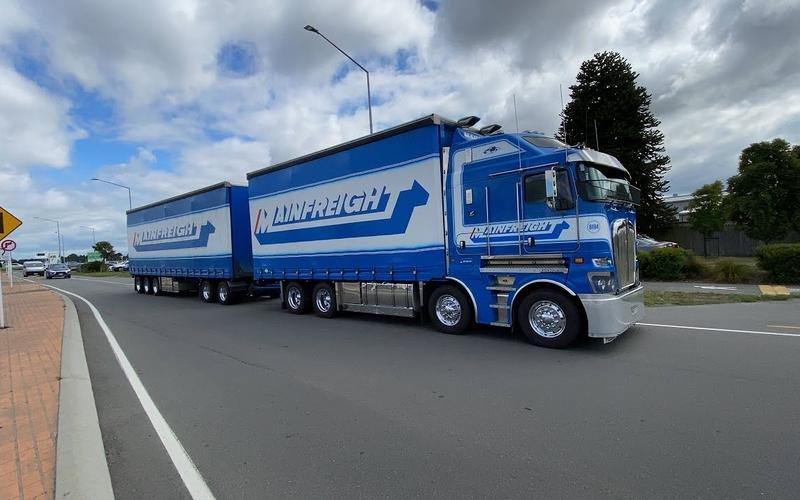卡车: (111, 113, 664, 364)
